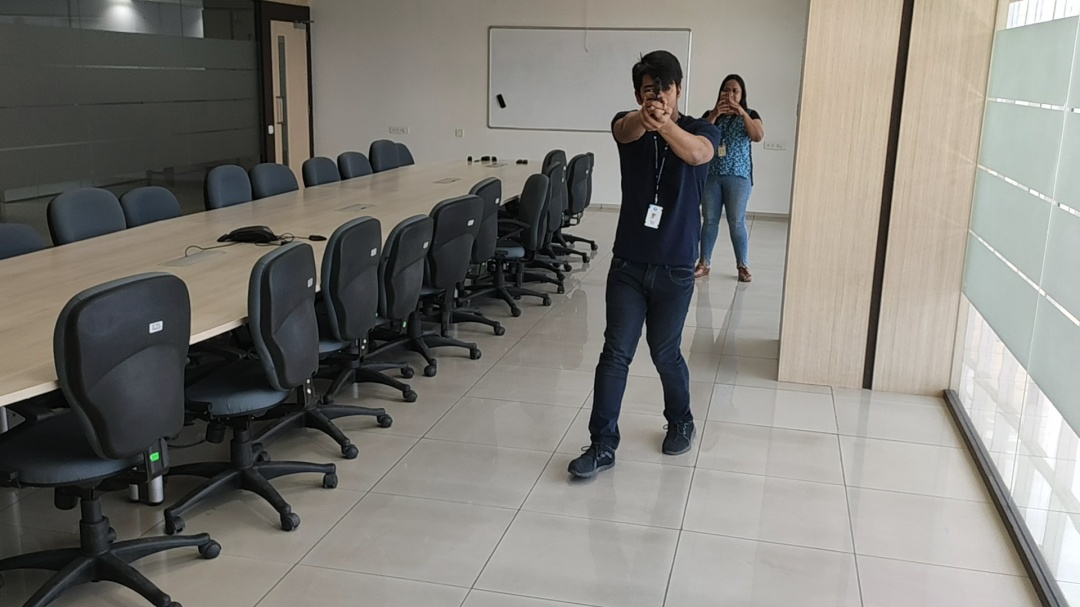gun: (641, 83, 673, 113)
